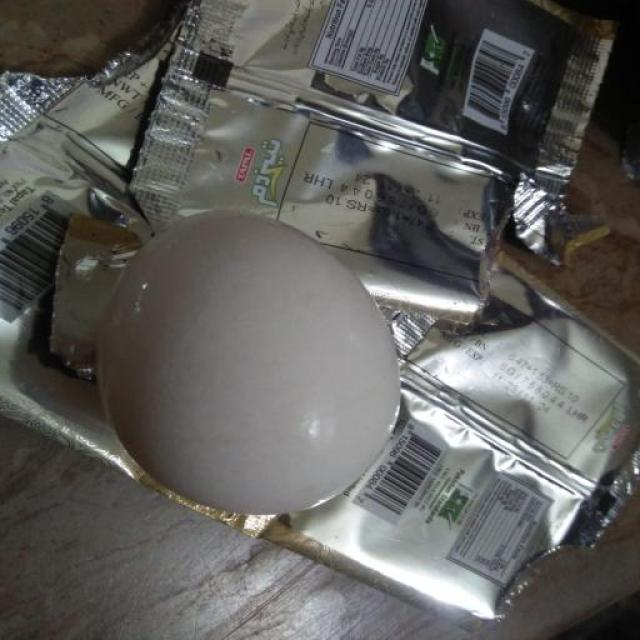telur: (93, 214, 394, 514)
